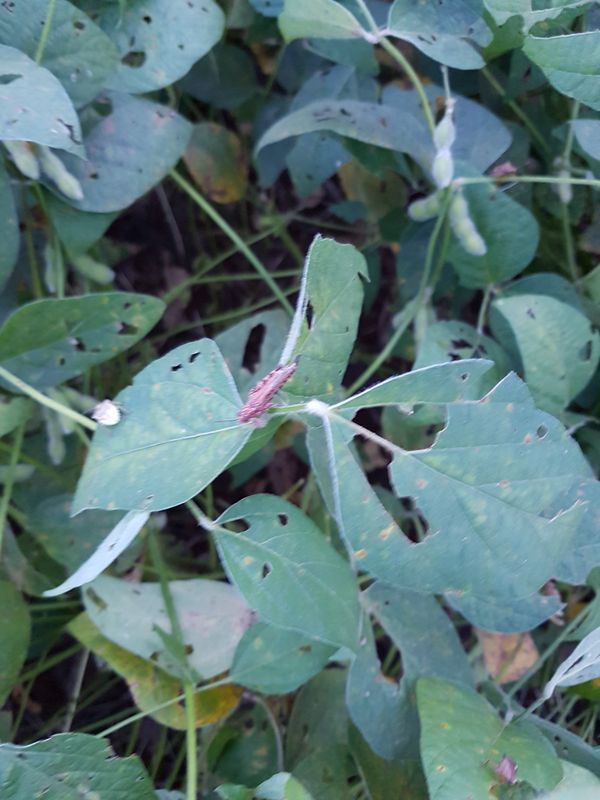Euschistus_heros_adulto: (478, 745, 534, 797)
Euschistus_heros_ninfa: (82, 393, 133, 439)
Rhammatocerus_schistocercoides: (218, 347, 307, 436)
